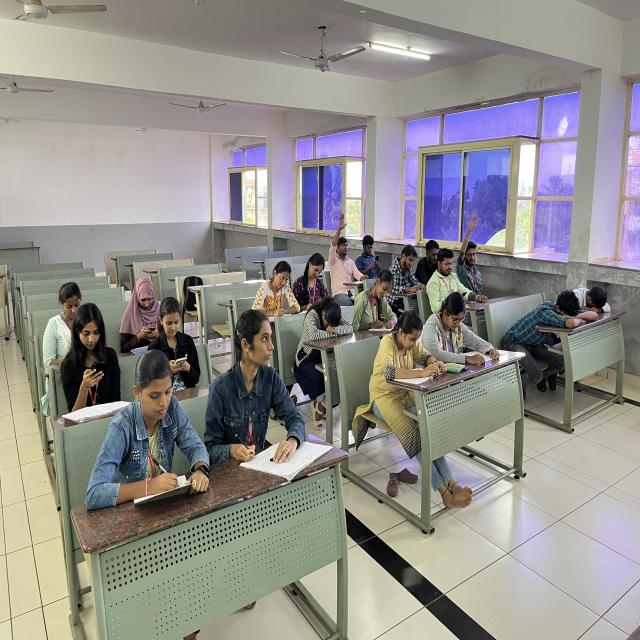Reading: (371, 305, 448, 411), (419, 287, 498, 367)
Sleeping: (285, 295, 352, 383), (494, 284, 586, 340), (564, 275, 617, 324)
Using Phone: (52, 302, 132, 415), (144, 291, 205, 384), (119, 272, 170, 350), (358, 230, 386, 288)
Writing: (202, 307, 329, 480), (83, 347, 216, 491), (250, 250, 304, 330), (350, 273, 406, 337), (291, 248, 338, 314), (382, 242, 427, 300)
